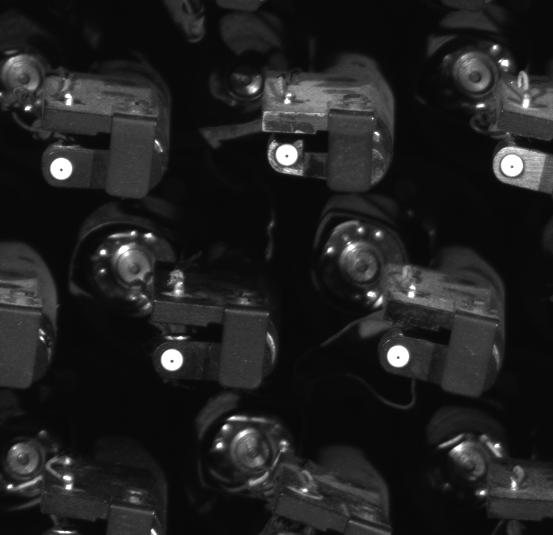fiber: (496, 151, 529, 186), (270, 141, 304, 171), (47, 154, 76, 187), (158, 345, 189, 373), (384, 343, 413, 369)
